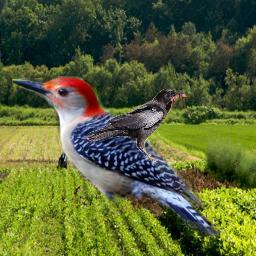Crow: (84, 86, 196, 161)
Woodpecker: (12, 76, 219, 237)
